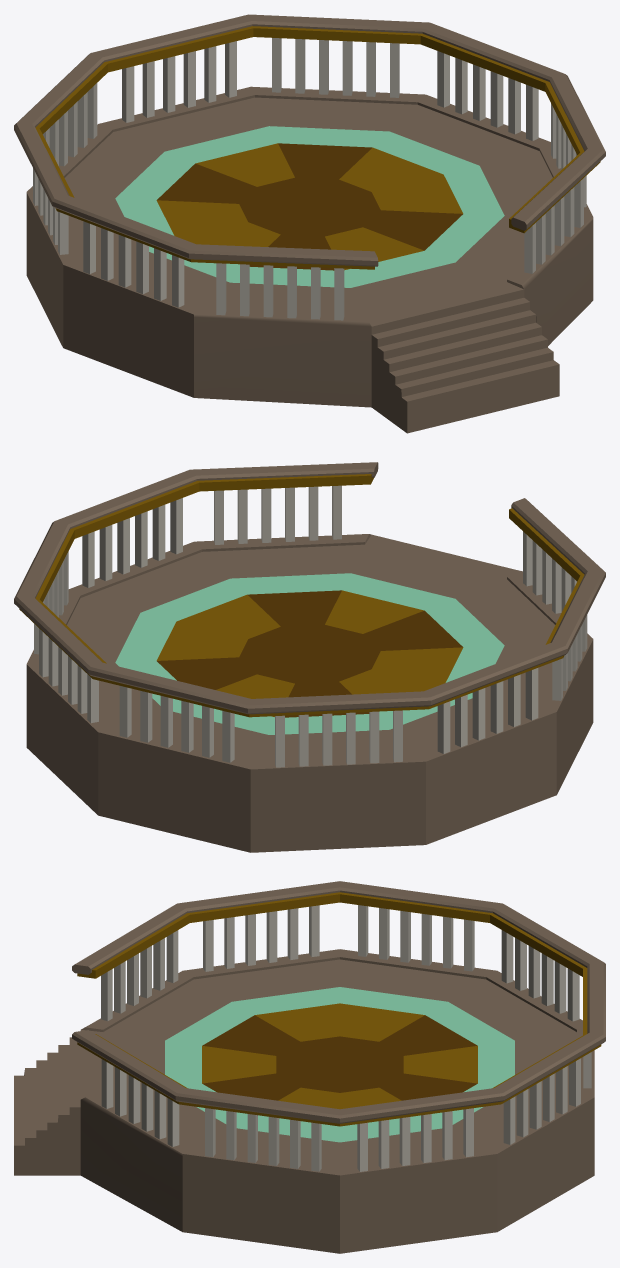
File: Gazebo Collider.fbx
3 renders of one model, top to bottom at view 1: azimuth 30°, elevation 25°; view 2: azimuth 150°, elevation 25°; view 3: azimuth 270°, elevation 25°, orthographic. The views are drawn at different scales.
Visible parts, largest first — view 1: Gazebo_Collider:Gazebo_Base_polySurface1; view 2: Gazebo_Collider:Gazebo_Base_polySurface1; view 3: Gazebo_Collider:Gazebo_Base_polySurface1.
Boxes of the visible parts, x1,y1,x2,y2 form: Gazebo_Collider:Gazebo_Base_polySurface1: [14, 14, 605, 433]; Gazebo_Collider:Gazebo_Base_polySurface1: [14, 462, 605, 852]; Gazebo_Collider:Gazebo_Base_polySurface1: [14, 881, 605, 1253].
Bounding box in the file's own units: 1253 × 352 × 1326.
